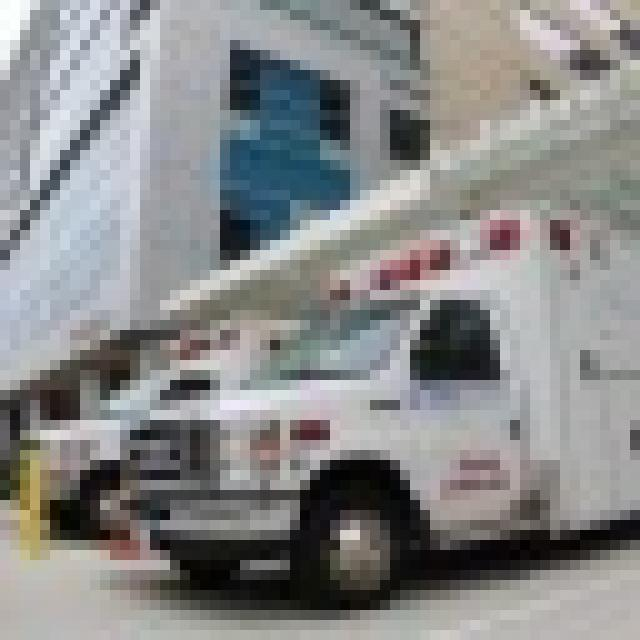Ambulance: (110, 200, 630, 600)
